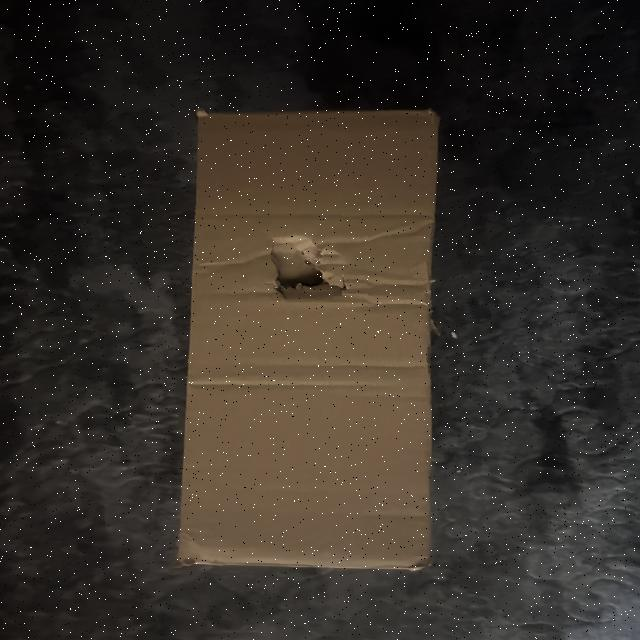damaged: (169, 100, 465, 580), (248, 225, 368, 318)
